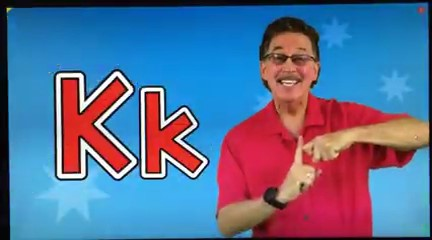K: (266, 123, 353, 209)
